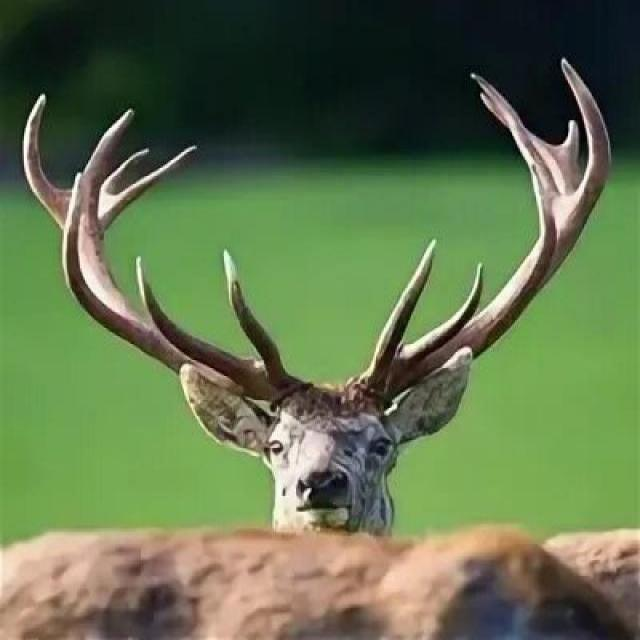deer: (27, 52, 618, 615)
